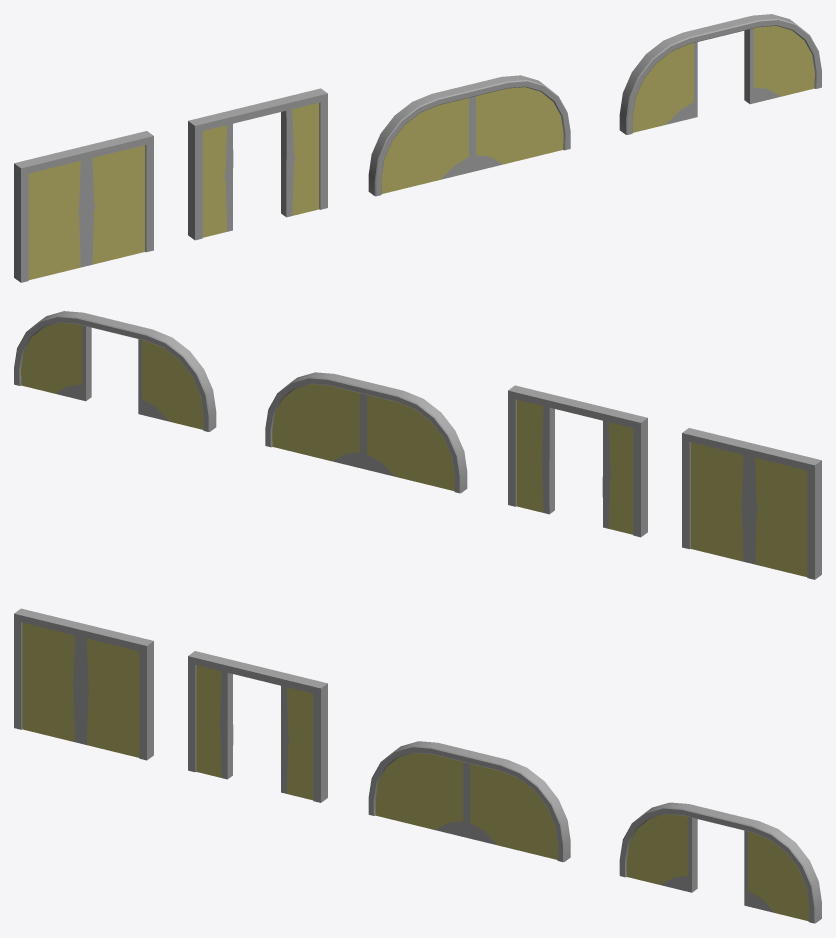
The model's file is Extra_Doors_Solarpunk.fbx.
3 renders of one model, top to bottom at view 1: azimuth 30°, elevation 25°; view 2: azimuth 150°, elevation 25°; view 3: azimuth 330°, elevation 25°, orthographic.
Parts seen in each view (by area): view 1: square_door, round_door, round_door_open, square_door_open; view 2: square_door, round_door, round_door_open, square_door_open; view 3: square_door, round_door, round_door_open, square_door_open.
Boxes of the visible parts, x1,y1,x2,y2 form: square_door: (14, 131, 153, 282); round_door: (368, 75, 570, 196); round_door_open: (619, 14, 821, 134); square_door_open: (188, 88, 327, 240); square_door: (682, 428, 821, 579); round_door: (265, 372, 467, 493); round_door_open: (14, 311, 216, 431); square_door_open: (508, 385, 647, 537); square_door: (14, 608, 153, 760); round_door: (368, 741, 570, 862); round_door_open: (619, 802, 821, 923); square_door_open: (188, 651, 327, 802).
Size of the model in its own units: 41.54 by 5.67 by 0.658.
